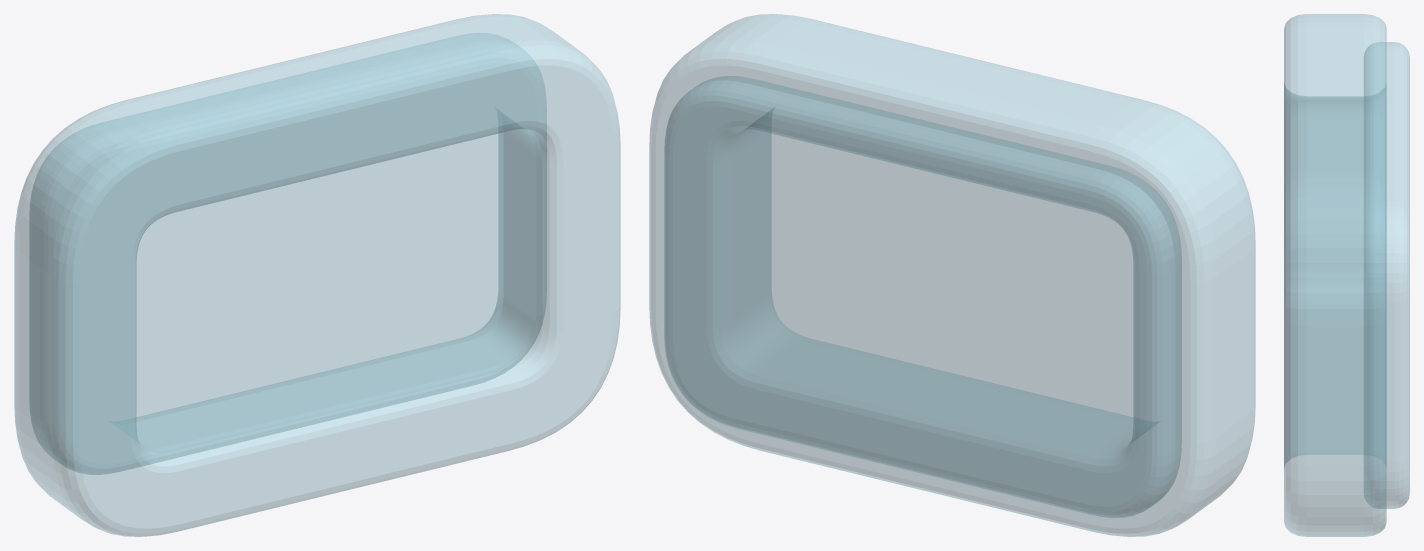
3 views of the same model, side by side, from view 1: azimuth 30°, elevation 25°; view 2: azimuth 150°, elevation 25°; view 3: azimuth 270°, elevation 25° (orthographic). The views are drawn at different scales.
Parts seen in each view (by area): view 1: tray-wall, tray-floor; view 2: tray-wall, tray-floor; view 3: tray-wall, tray-floor.
Part boxes in pixels (box(x1,y1,x2,y2)): tray-wall: box(14, 14, 620, 536); tray-floor: box(29, 33, 546, 474); tray-wall: box(649, 14, 1255, 536); tray-floor: box(664, 76, 1181, 517); tray-wall: box(1284, 14, 1386, 536); tray-floor: box(1364, 42, 1409, 508).
Bounding box in the file's own units: 2.21 × 1.51 × 0.49.
